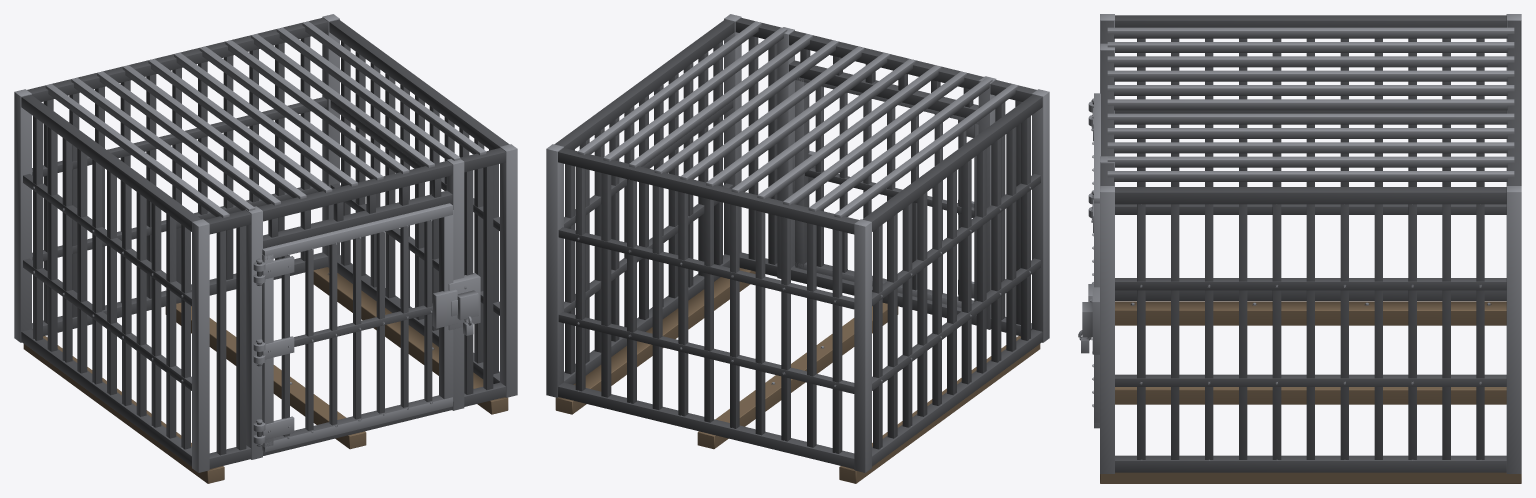
The model's file is rig_cage_large.glb.
3 renders of one model, left to right at view 1: azimuth 30°, elevation 25°; view 2: azimuth 150°, elevation 25°; view 3: azimuth 270°, elevation 25°, orthographic. The views are drawn at different scales.
Parts seen in each view (by area): view 1: rig_cage_large, door; view 2: rig_cage_large, door; view 3: rig_cage_large, door.
Boxes of the visible parts, x1,y1,x2,y2 form: rig_cage_large: [14, 14, 517, 483]; door: [262, 203, 457, 452]; rig_cage_large: [546, 14, 1049, 483]; door: [795, 77, 978, 307]; rig_cage_large: [1078, 14, 1521, 483]; door: [1088, 93, 1100, 428].
Size of the model in its own units: 4.5 by 3.53 by 4.73.
